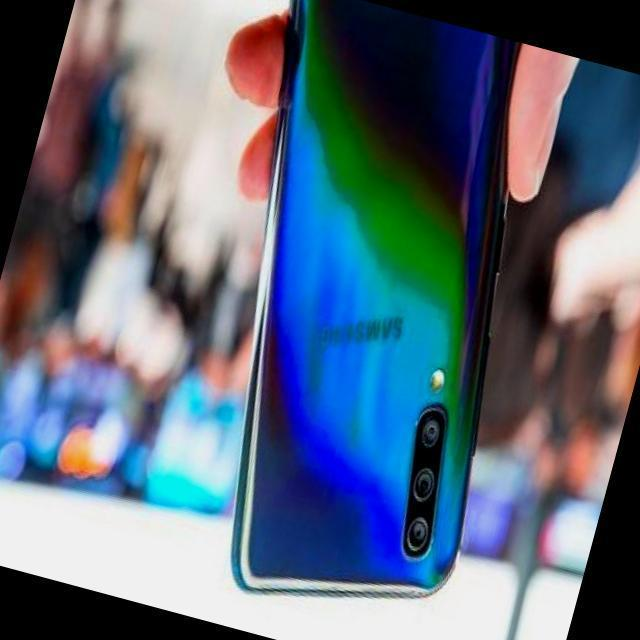lens: (399, 402, 448, 560)
phone: (230, 0, 514, 614)
